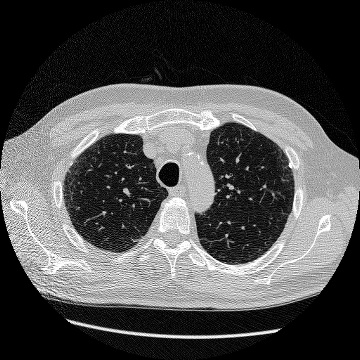PN: (288, 163, 292, 167)
